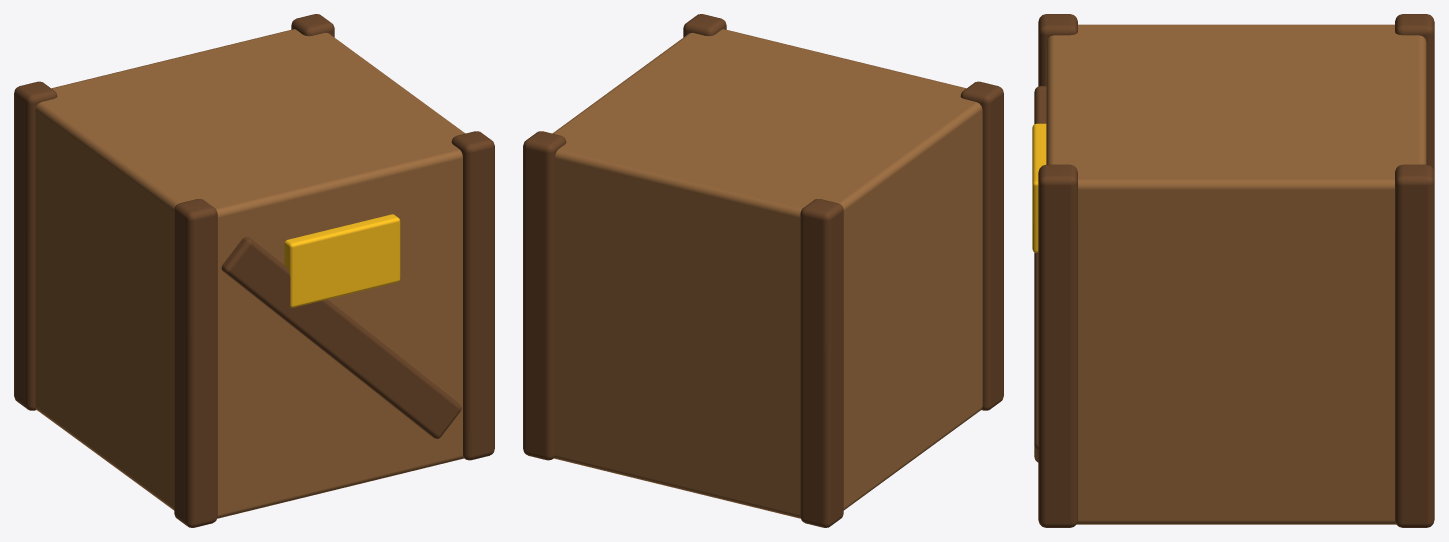
File: crate.glb
The picture shows the model from 3 angles, left to right: view 1: azimuth 30°, elevation 25°; view 2: azimuth 150°, elevation 25°; view 3: azimuth 270°, elevation 25°; orthographic projection. The views are drawn at different scales.
Parts seen in each view (by area): view 1: crateMesh; view 2: crateMesh; view 3: crateMesh.
Boxes of the visible parts, left/top/right/bottom form: crateMesh: left=14, top=14, right=494, bottom=527; crateMesh: left=523, top=14, right=1003, bottom=527; crateMesh: left=1032, top=14, right=1434, bottom=527.
Size of the model in its own units: 1 by 0.98 by 1.01.
